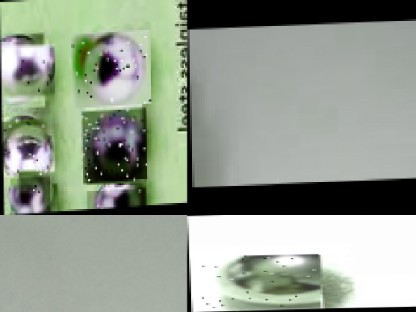ironball: (71, 29, 150, 107), (222, 251, 323, 305), (81, 107, 146, 182), (1, 112, 52, 175), (0, 37, 50, 101), (9, 174, 50, 214), (86, 187, 145, 210)
